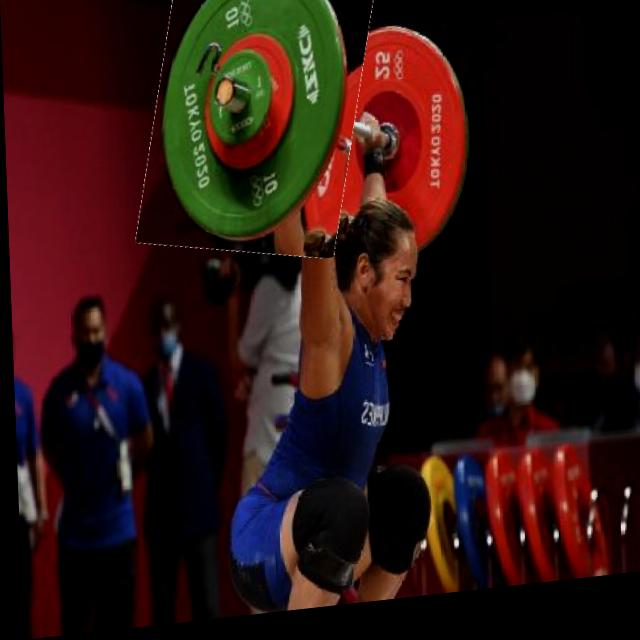barbell: (139, 1, 372, 274)
